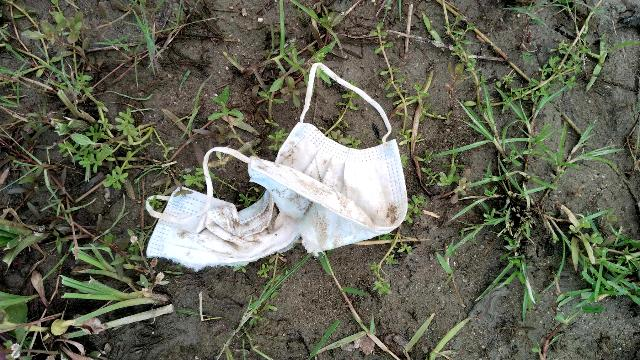mask: (114, 65, 443, 267)
